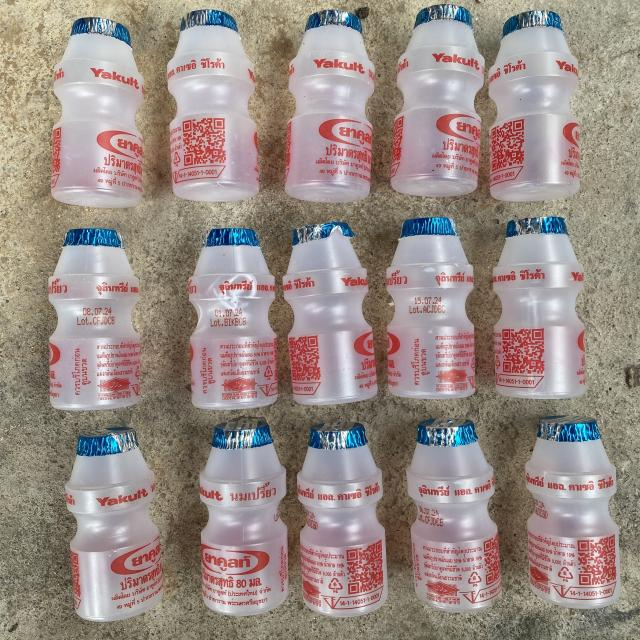Single-Use-Plastic: (65, 428, 162, 621), (406, 419, 501, 612), (525, 416, 620, 609), (391, 4, 485, 196), (51, 18, 144, 208), (282, 222, 378, 405), (298, 422, 388, 616), (200, 419, 289, 615), (168, 10, 259, 201), (489, 10, 580, 201), (285, 10, 375, 202), (492, 216, 586, 399), (49, 229, 140, 410), (189, 229, 278, 410), (386, 218, 475, 399)
